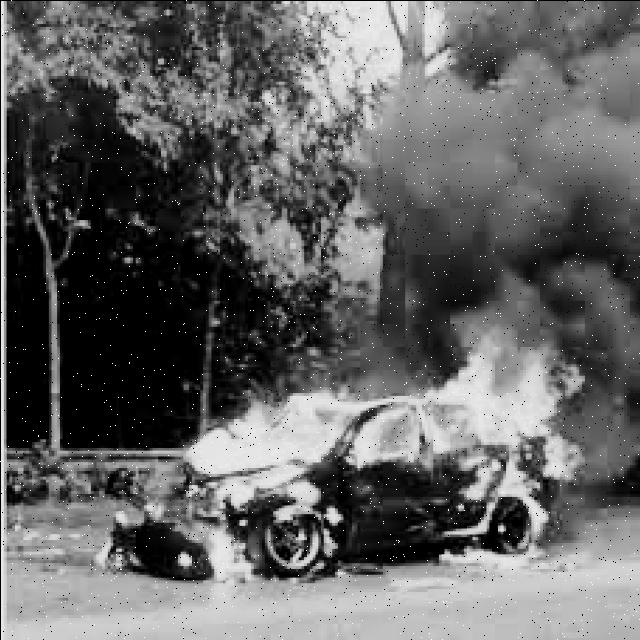api: (94, 451, 271, 583), (220, 365, 434, 471), (436, 433, 599, 569), (428, 335, 585, 445)
